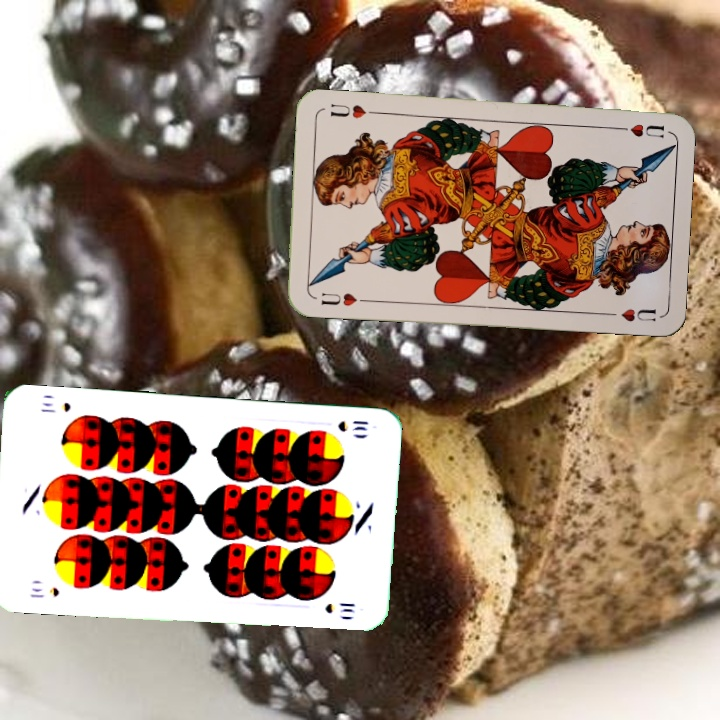HU: (610, 119, 667, 141), (317, 288, 360, 309)
S10: (26, 583, 62, 601), (333, 417, 371, 434)
